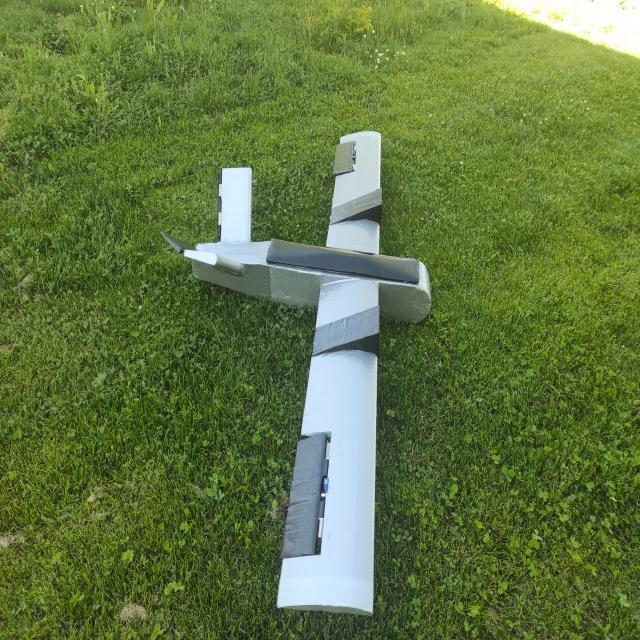UAV: (144, 71, 414, 640)
